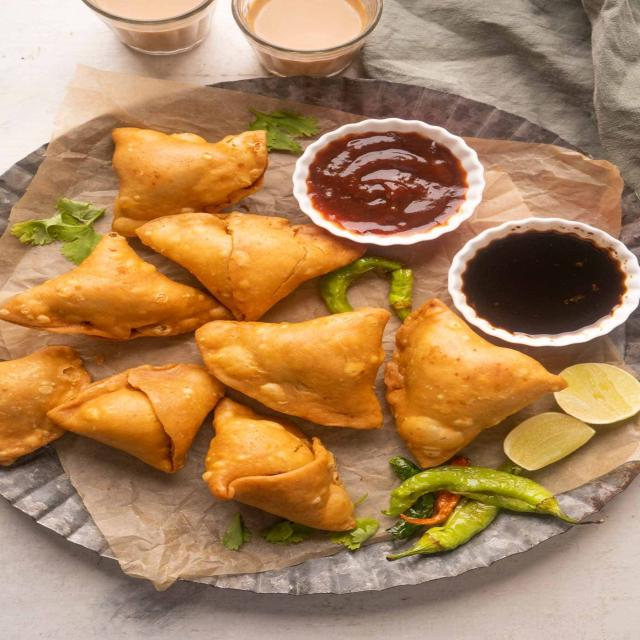SAMOSA: (303, 496, 640, 640), (384, 299, 566, 468), (0, 233, 232, 341), (139, 212, 363, 320), (196, 308, 390, 429), (203, 399, 354, 531), (48, 363, 223, 473), (111, 128, 267, 238), (0, 347, 90, 465)
